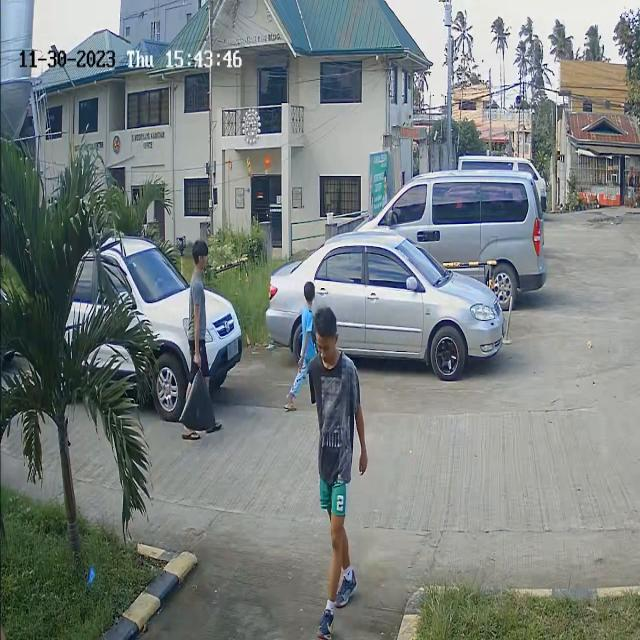person: (314, 311, 354, 445), (187, 236, 214, 326), (295, 276, 317, 343)
